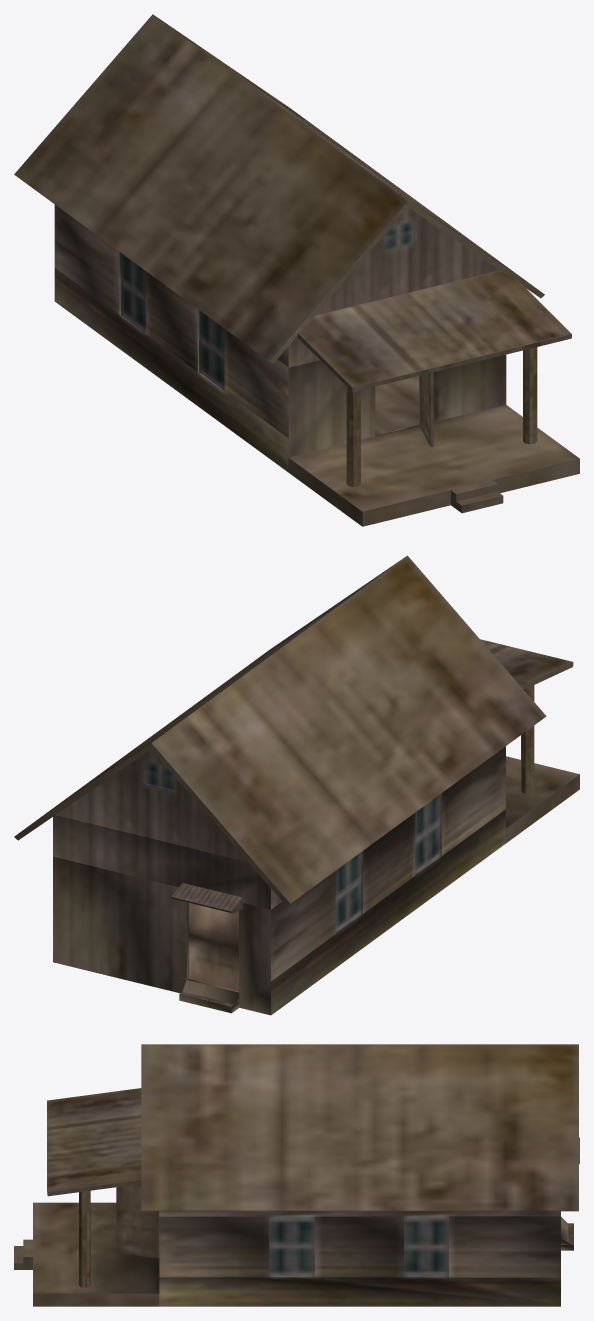
The model's file is Factory.fbx.
3 views of the same model, one above another, from view 1: azimuth 30°, elevation 25°; view 2: azimuth 150°, elevation 25°; view 3: azimuth 270°, elevation 25° (orthographic). The views are drawn at different scales.
Visible parts, largest first — view 1: Factory, Door; view 2: Factory; view 3: Factory, Door.
Part boxes in pixels (x1,y1,x2,y2): Factory: (14, 14, 579, 526); Door: (419, 372, 433, 447); Factory: (14, 555, 579, 1015); Factory: (14, 1044, 579, 1306); Door: (116, 1184, 159, 1258).
Bounding box in the file's own units: 846 × 741 × 1754.
Materials: 2 (2 with a texture image).
